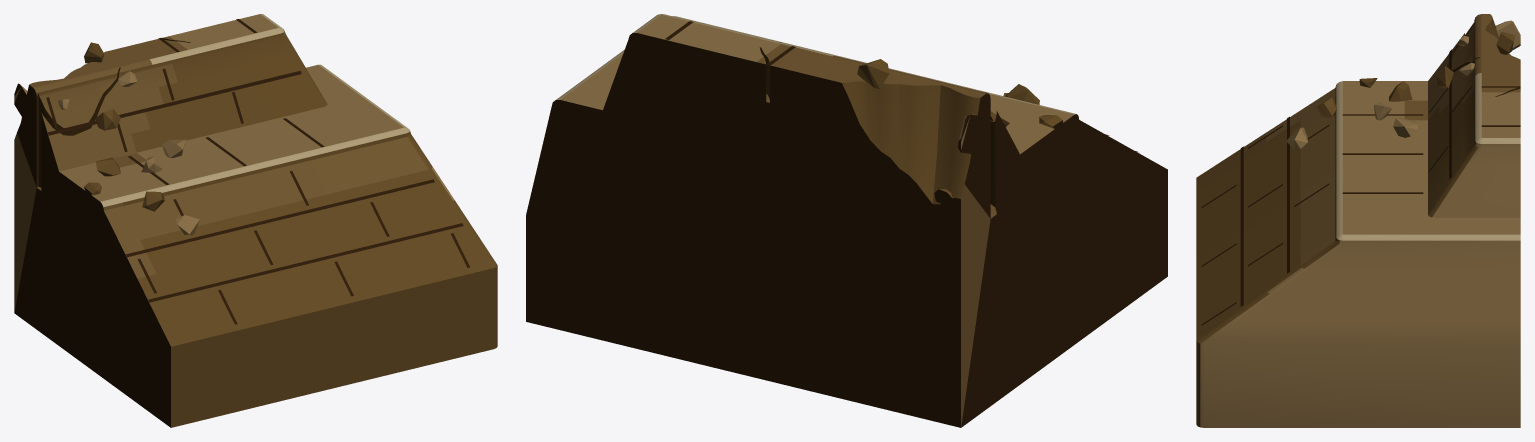
Rendered from pyramid_193_wreck.glb.
3 renders of one model, left to right at view 1: azimuth 30°, elevation 25°; view 2: azimuth 150°, elevation 25°; view 3: azimuth 270°, elevation 25°, orthographic. The views are drawn at different scales.
Parts seen in each view (by area): view 1: level0.001, masonry0.001, masonry1.001; view 2: level0.001, heap29.001, spill2.001, heap48.001; view 3: level0.001, masonry0.001, masonry1.001, spill11.001, heap29.001, spill6.001, spill9.001, spill2.001.
Boxes of the visible parts, x1=… form: level0.001: x1=14, y1=14, x2=497, y2=427; masonry0.001: x1=126, y1=171, x2=469, y2=324; masonry1.001: x1=46, y1=68, x2=301, y2=151; level0.001: x1=526, y1=14, x2=1167, y2=427; heap29.001: x1=957, y1=114, x2=983, y2=153; spill2.001: x1=857, y1=59, x2=889, y2=88; heap48.001: x1=832, y1=136, x2=856, y2=172; level0.001: x1=1196, y1=14, x2=1520, y2=427; masonry0.001: x1=1201, y1=116, x2=1329, y2=325; masonry1.001: x1=1429, y1=27, x2=1471, y2=179; spill11.001: x1=1393, y1=118, x2=1418, y2=137; heap29.001: x1=1495, y1=20, x2=1520, y2=50; spill6.001: x1=1389, y1=81, x2=1412, y2=101; spill9.001: x1=1286, y1=127, x2=1307, y2=149; spill2.001: x1=1496, y1=32, x2=1514, y2=54.
Bounding box in the file's own units: 17 × 12.59 × 14.
